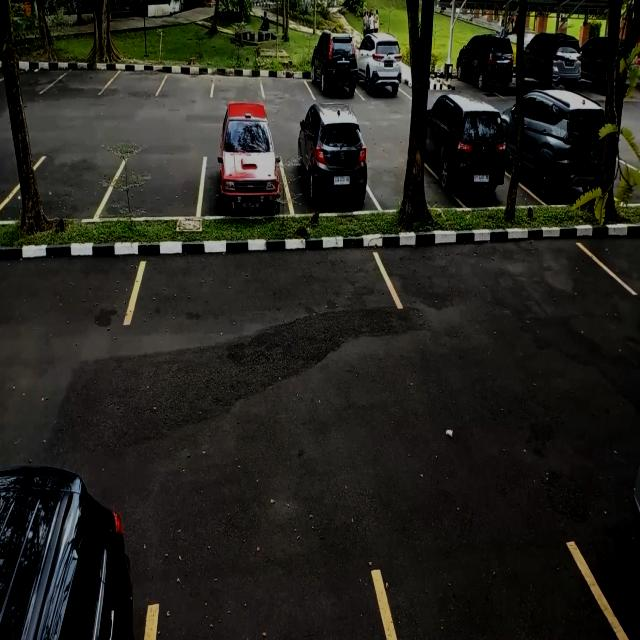empty: (376, 524, 624, 640), (152, 544, 390, 640), (123, 237, 383, 323), (384, 226, 604, 312), (3, 152, 108, 224), (104, 153, 202, 219), (50, 54, 109, 99), (105, 56, 163, 98), (160, 58, 216, 100), (260, 59, 312, 101), (212, 61, 264, 101)
occupied: (427, 104, 511, 210), (522, 98, 602, 206), (286, 123, 376, 212), (202, 124, 287, 218), (358, 34, 408, 100), (310, 36, 360, 100)
